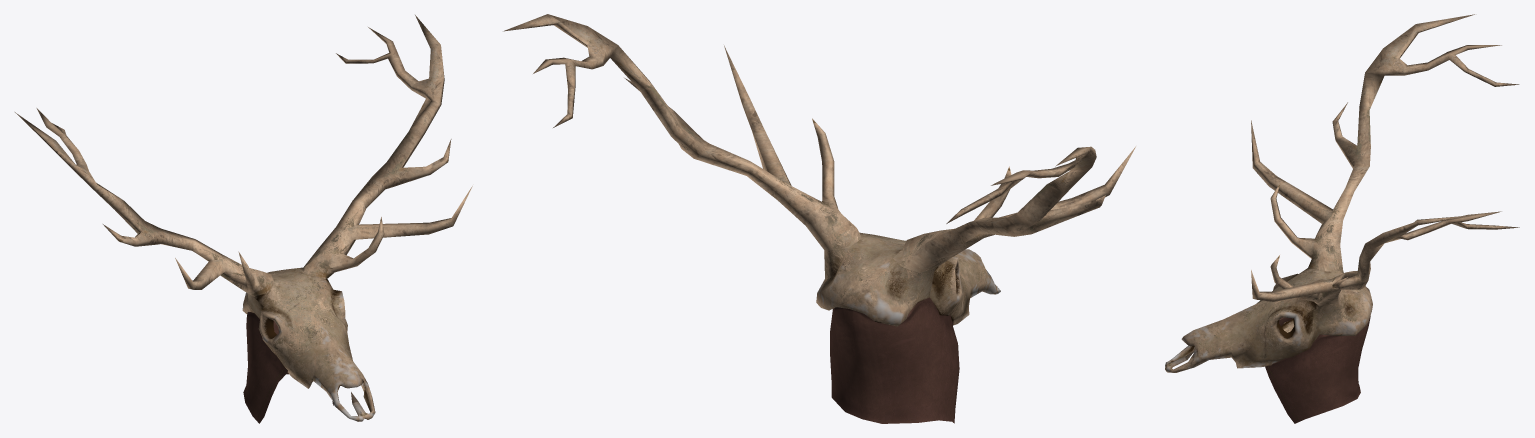
File: Robe_part_3.fbx
The picture shows the model from 3 angles, left to right: view 1: azimuth 30°, elevation 25°; view 2: azimuth 150°, elevation 25°; view 3: azimuth 270°, elevation 25°; orthographic projection. The views are drawn at different scales.
Visible parts, largest first — view 1: Head_Head_0.001; view 2: Head_Head_0.001; view 3: Head_Head_0.001.
Part boxes in pixels (left/top/right/bottom): Head_Head_0.001: left=15, top=15, right=472, bottom=423; Head_Head_0.001: left=503, top=14, right=1135, bottom=423; Head_Head_0.001: left=1165, top=14, right=1519, bottom=423.
Bounding box in the file's own units: 95212 × 65476 × 71243.
